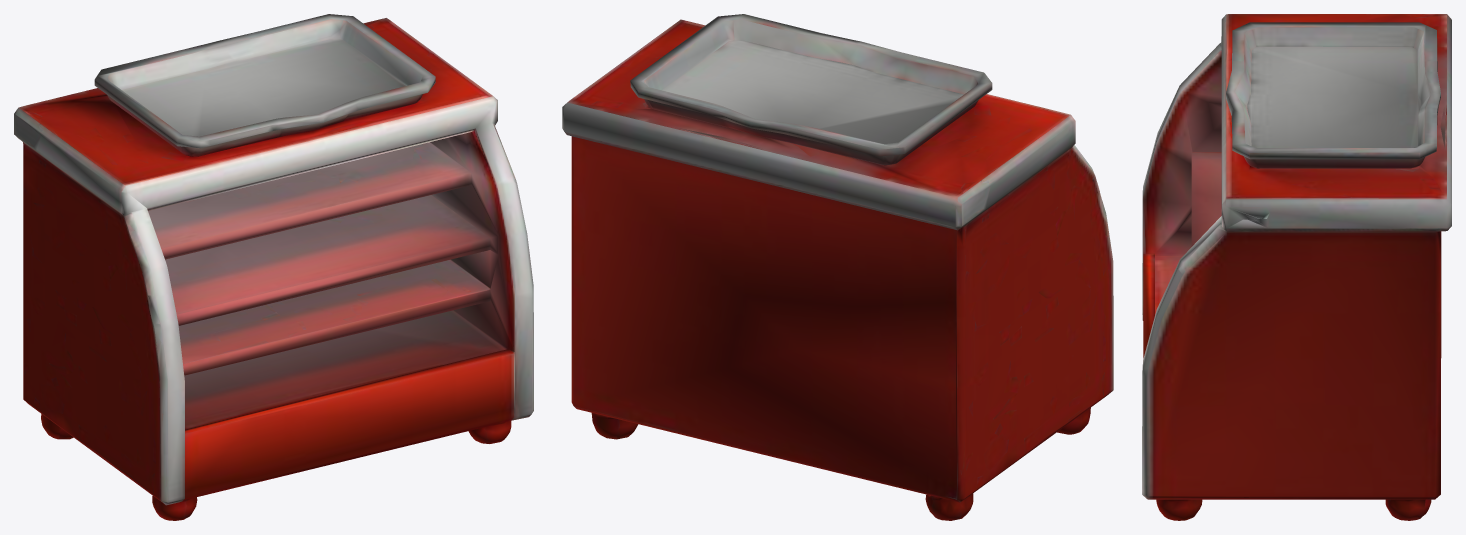
File: shushigui-2.glb
3 renders of one model, left to right at view 1: azimuth 30°, elevation 25°; view 2: azimuth 150°, elevation 25°; view 3: azimuth 270°, elevation 25°, orthographic. The views are drawn at different scales.
Parts seen in each view (by area): view 1: node_0; view 2: node_0; view 3: node_0.
Boxes of the visible parts, box(x1,y1,x2,y2) form: node_0: box(14, 14, 533, 520); node_0: box(562, 14, 1113, 520); node_0: box(1142, 14, 1451, 520).
Size of the model in its own units: 0.8554 by 0.7398 by 0.5899.
1 material, 1 textured.
